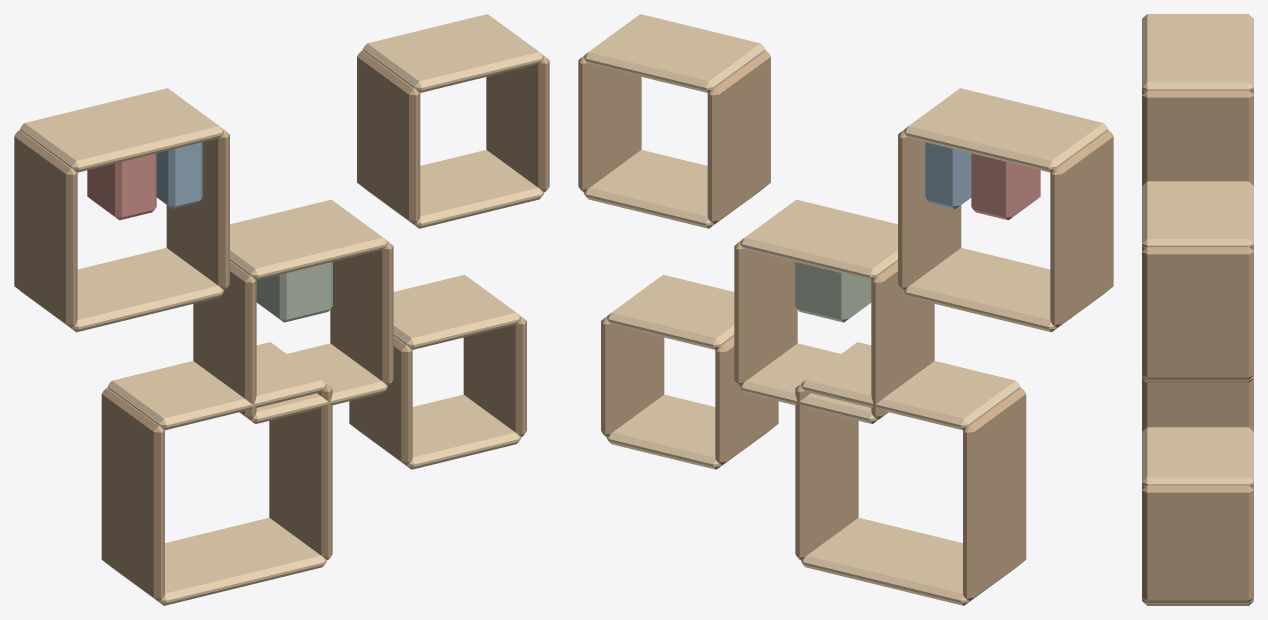
Rendered from FloatingWallShelves.glb.
3 views of the same model, side by side, from view 1: azimuth 30°, elevation 25°; view 2: azimuth 150°, elevation 25°; view 3: azimuth 270°, elevation 25° (orthographic). The views are drawn at different scales.
Visible parts, largest first — view 1: SpaceSaver_FloatingWallShelves; view 2: SpaceSaver_FloatingWallShelves; view 3: SpaceSaver_FloatingWallShelves.
Boxes of the visible parts, left/top/right/bottom form: SpaceSaver_FloatingWallShelves: left=14, top=14, right=549, bottom=605; SpaceSaver_FloatingWallShelves: left=578, top=14, right=1113, bottom=605; SpaceSaver_FloatingWallShelves: left=1142, top=14, right=1253, bottom=605.
Bounding box in the file's own units: 1.27 × 1.17 × 0.26.
